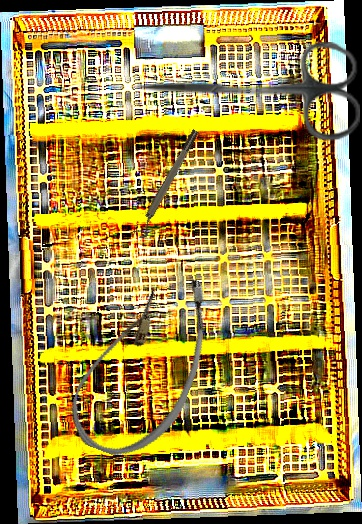Cannula: (59, 254, 228, 473)
Fixation Ring: (130, 128, 206, 241)
Iris Scissors: (137, 42, 360, 141)
